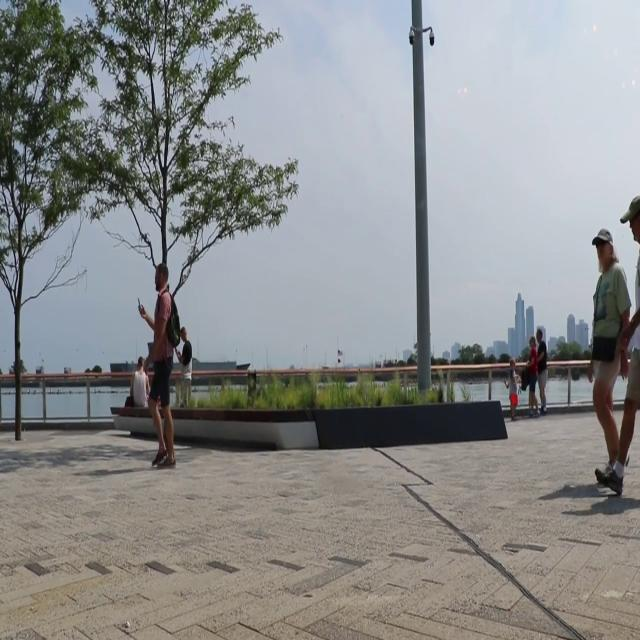normal: (588, 232, 634, 489), (135, 255, 188, 469)
